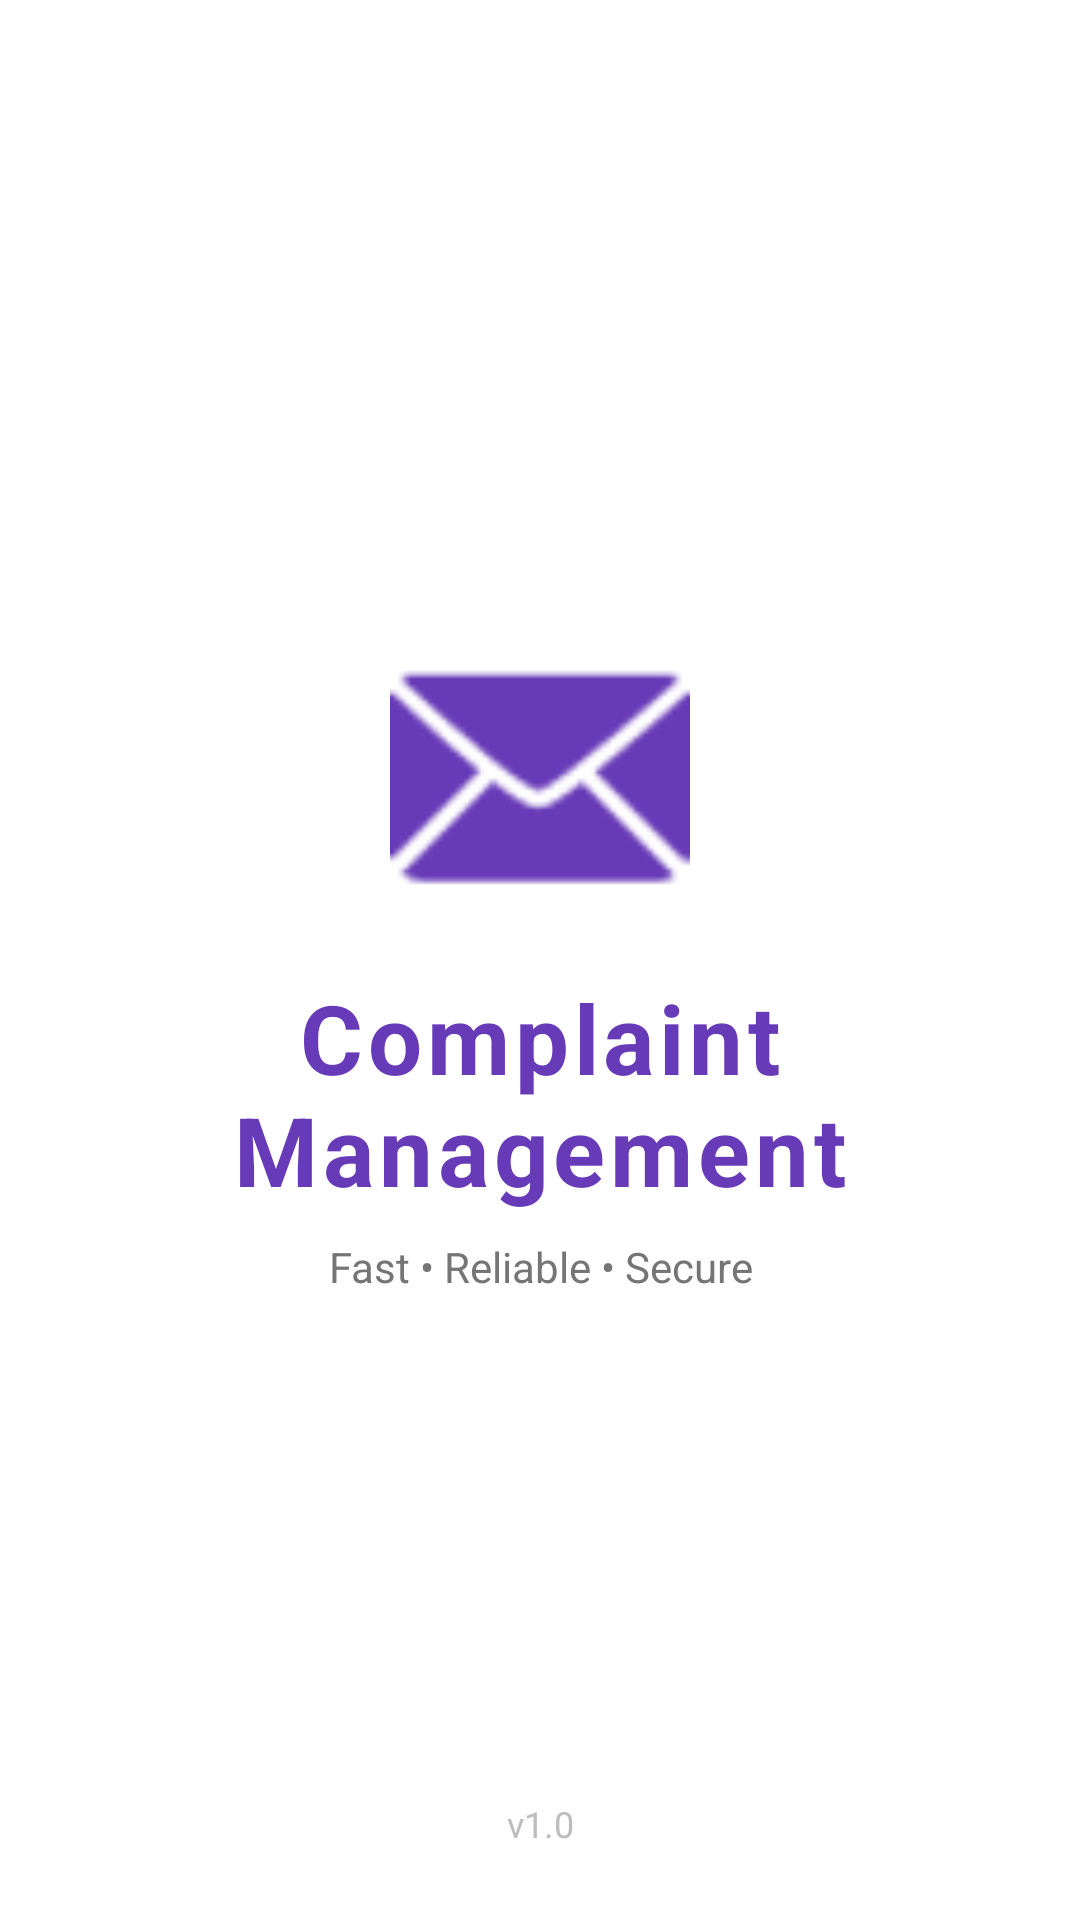

Point at icon controls on the screen. Image size 1080px x 1920px, points as point (x, y).
email: point (540, 777)
